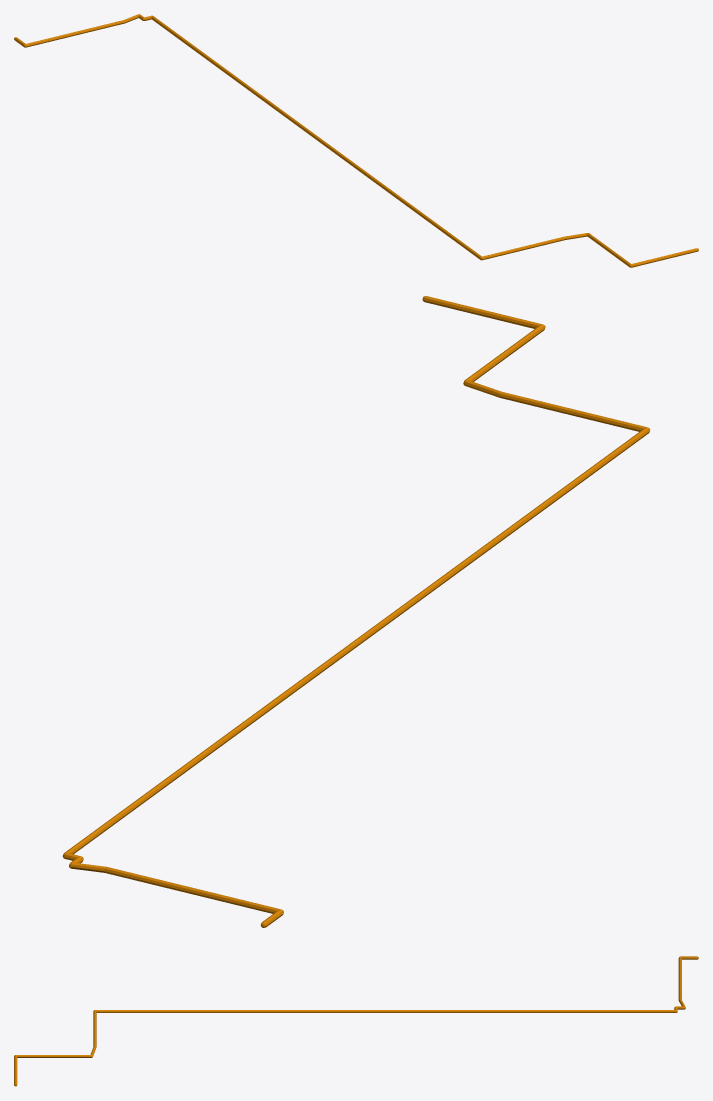
3 views of the same model, one above another, from view 1: azimuth 30°, elevation 25°; view 2: azimuth 150°, elevation 25°; view 3: azimuth 270°, elevation 25° (orthographic). The views are drawn at different scales.
Bounding box in the file's own units: 1802 × 20 × 4067.
